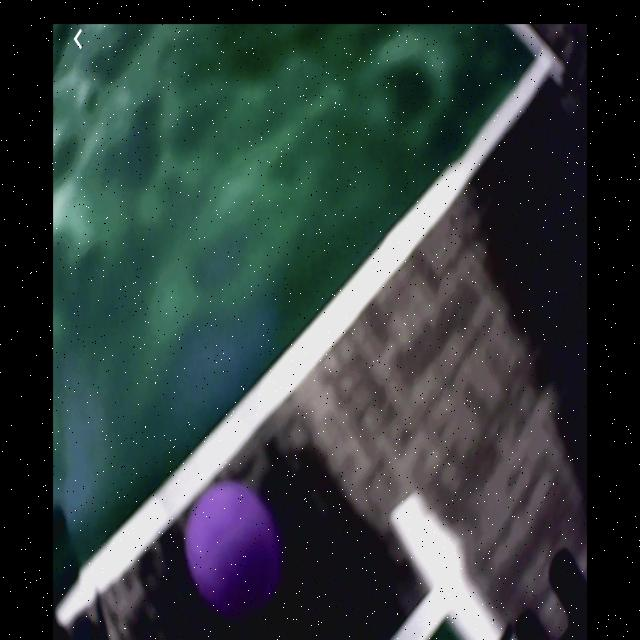ball: (186, 481, 281, 613)
